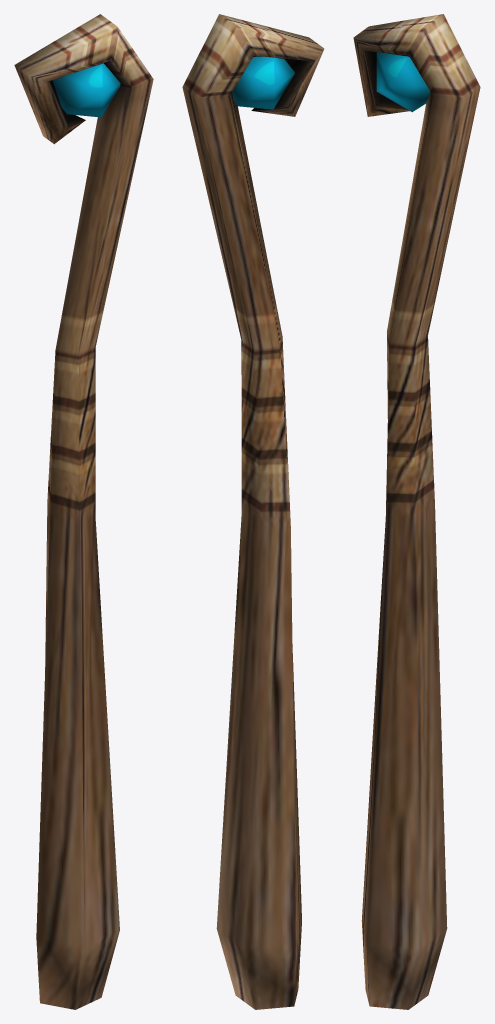
File: staff04.FBX
3 renders of one model, left to right at view 1: azimuth 30°, elevation 25°; view 2: azimuth 210°, elevation 25°; view 3: azimuth 330°, elevation 25°, orthographic. The views are drawn at different scales.
Visible parts, largest first — view 1: staff04; view 2: staff04; view 3: staff04.
Part boxes in pixels (bbox=[...]): staff04: bbox=[14, 14, 153, 1009]; staff04: bbox=[182, 14, 324, 1009]; staff04: bbox=[353, 14, 480, 1009].
Size of the model in its own units: 0.2461 by 1.95 by 0.1609.
